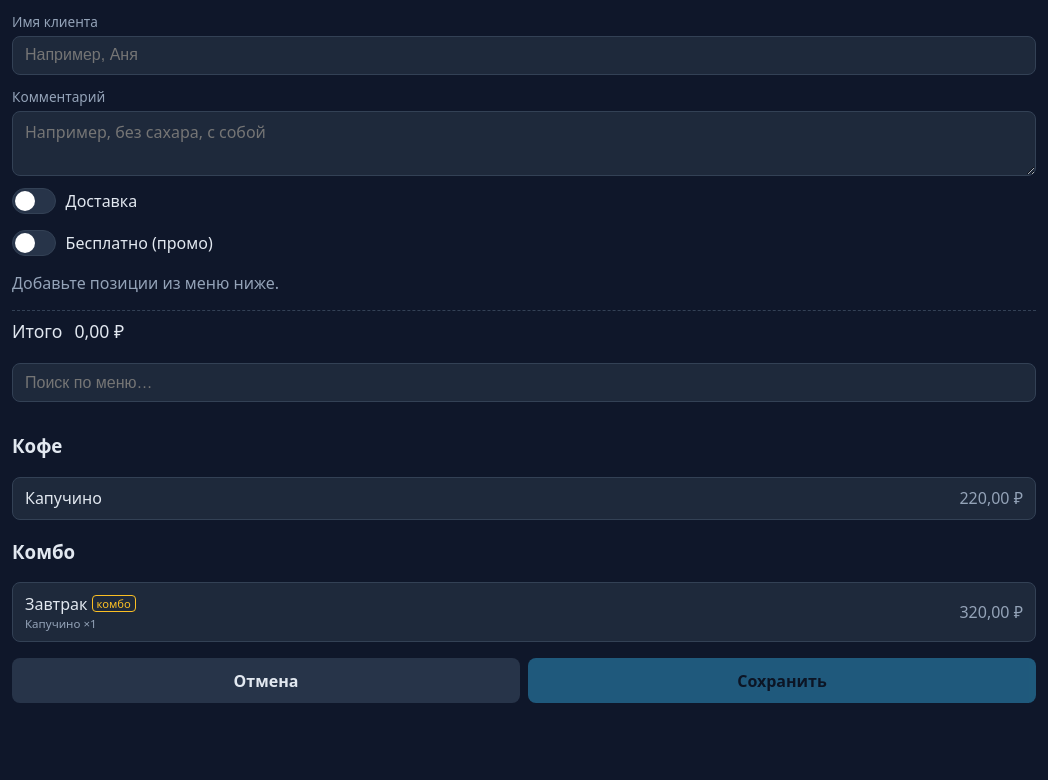
Test: OrderForm › disables save until there is a name and at least one item
Expected: the button "Сохранить" is disabled, [528,658,1036,703]
Type "Аня" into the field labelled "Имя клиента".
click(524, 55); type("Аня")  # box [12,36,1036,75]
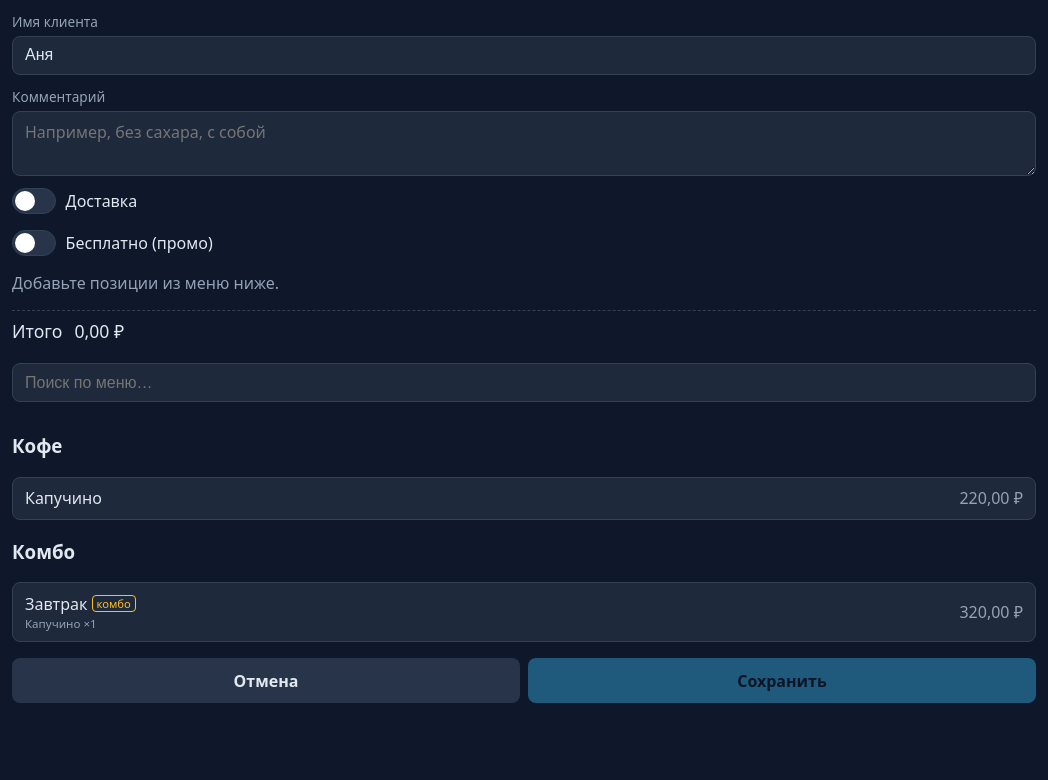
Expected: the button "Сохранить" is disabled, [528,658,1036,703]
Click the button with class "menu-item" showing "Капучино 220,00 ₽".
click(63, 498)  # box [12,477,1036,520]
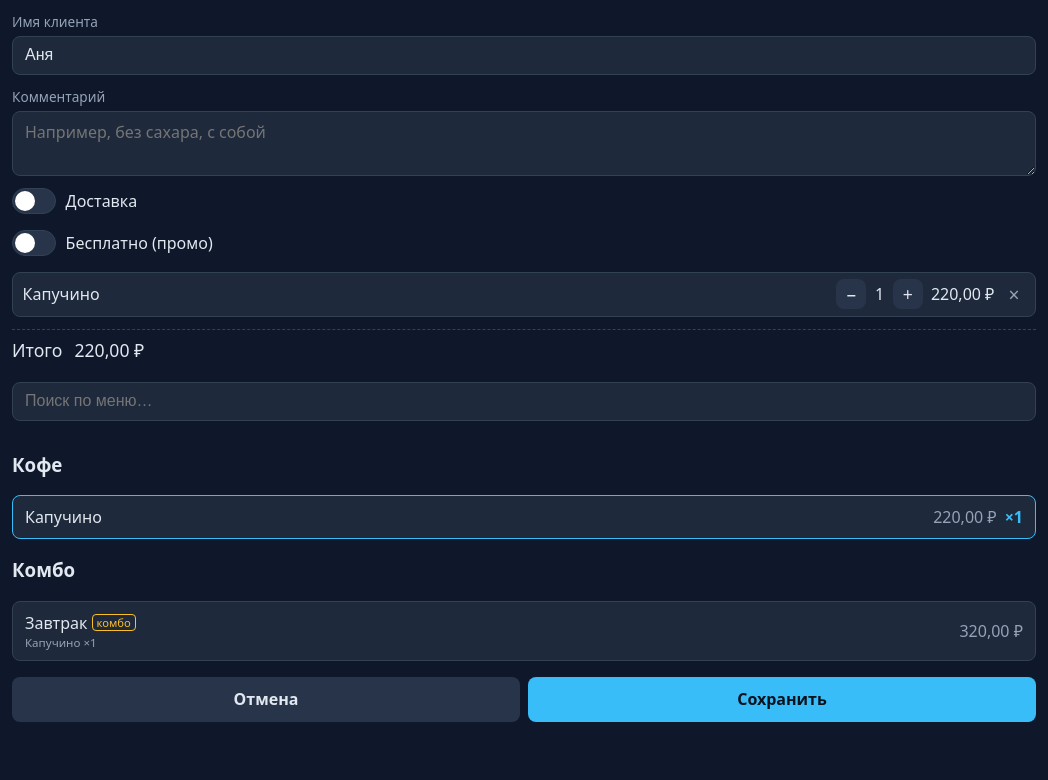
Now the button "Сохранить" is enabled, box [528,677,1036,722]
